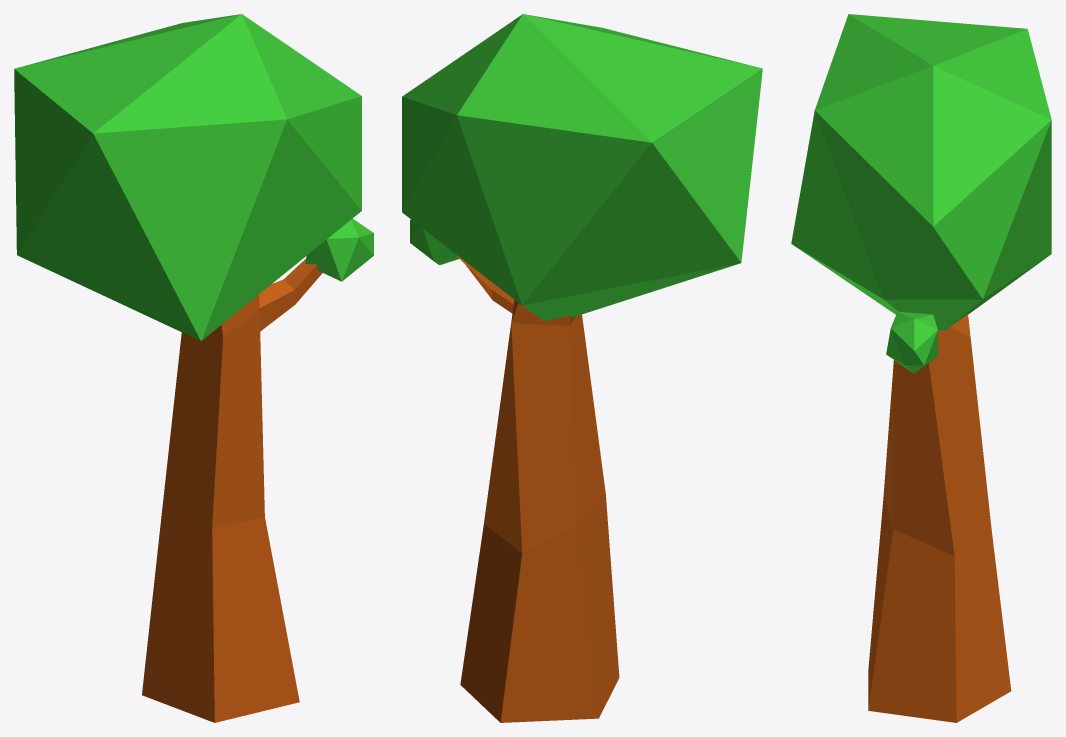
Rendered from tree.obj.
The picture shows the model from 3 angles, left to right: view 1: azimuth 30°, elevation 25°; view 2: azimuth 150°, elevation 25°; view 3: azimuth 270°, elevation 25°; orthographic projection. The views are drawn at different scales.
Visible parts, largest first — view 1: Icosphere_Icosphere.001, Cylinder_Cylinder.001; view 2: Icosphere_Icosphere.001, Cylinder_Cylinder.001; view 3: Icosphere_Icosphere.001, Cylinder_Cylinder.001.
Part boxes in pixels (x1,y1,x2,y2): Icosphere_Icosphere.001: [14, 14, 373, 340]; Cylinder_Cylinder.001: [142, 259, 322, 722]; Icosphere_Icosphere.001: [402, 14, 762, 320]; Cylinder_Cylinder.001: [457, 256, 619, 722]; Icosphere_Icosphere.001: [791, 14, 1051, 373]; Cylinder_Cylinder.001: [868, 313, 1011, 722].
Bounding box in the file's own units: 8.38 × 15.62 × 5.82.
